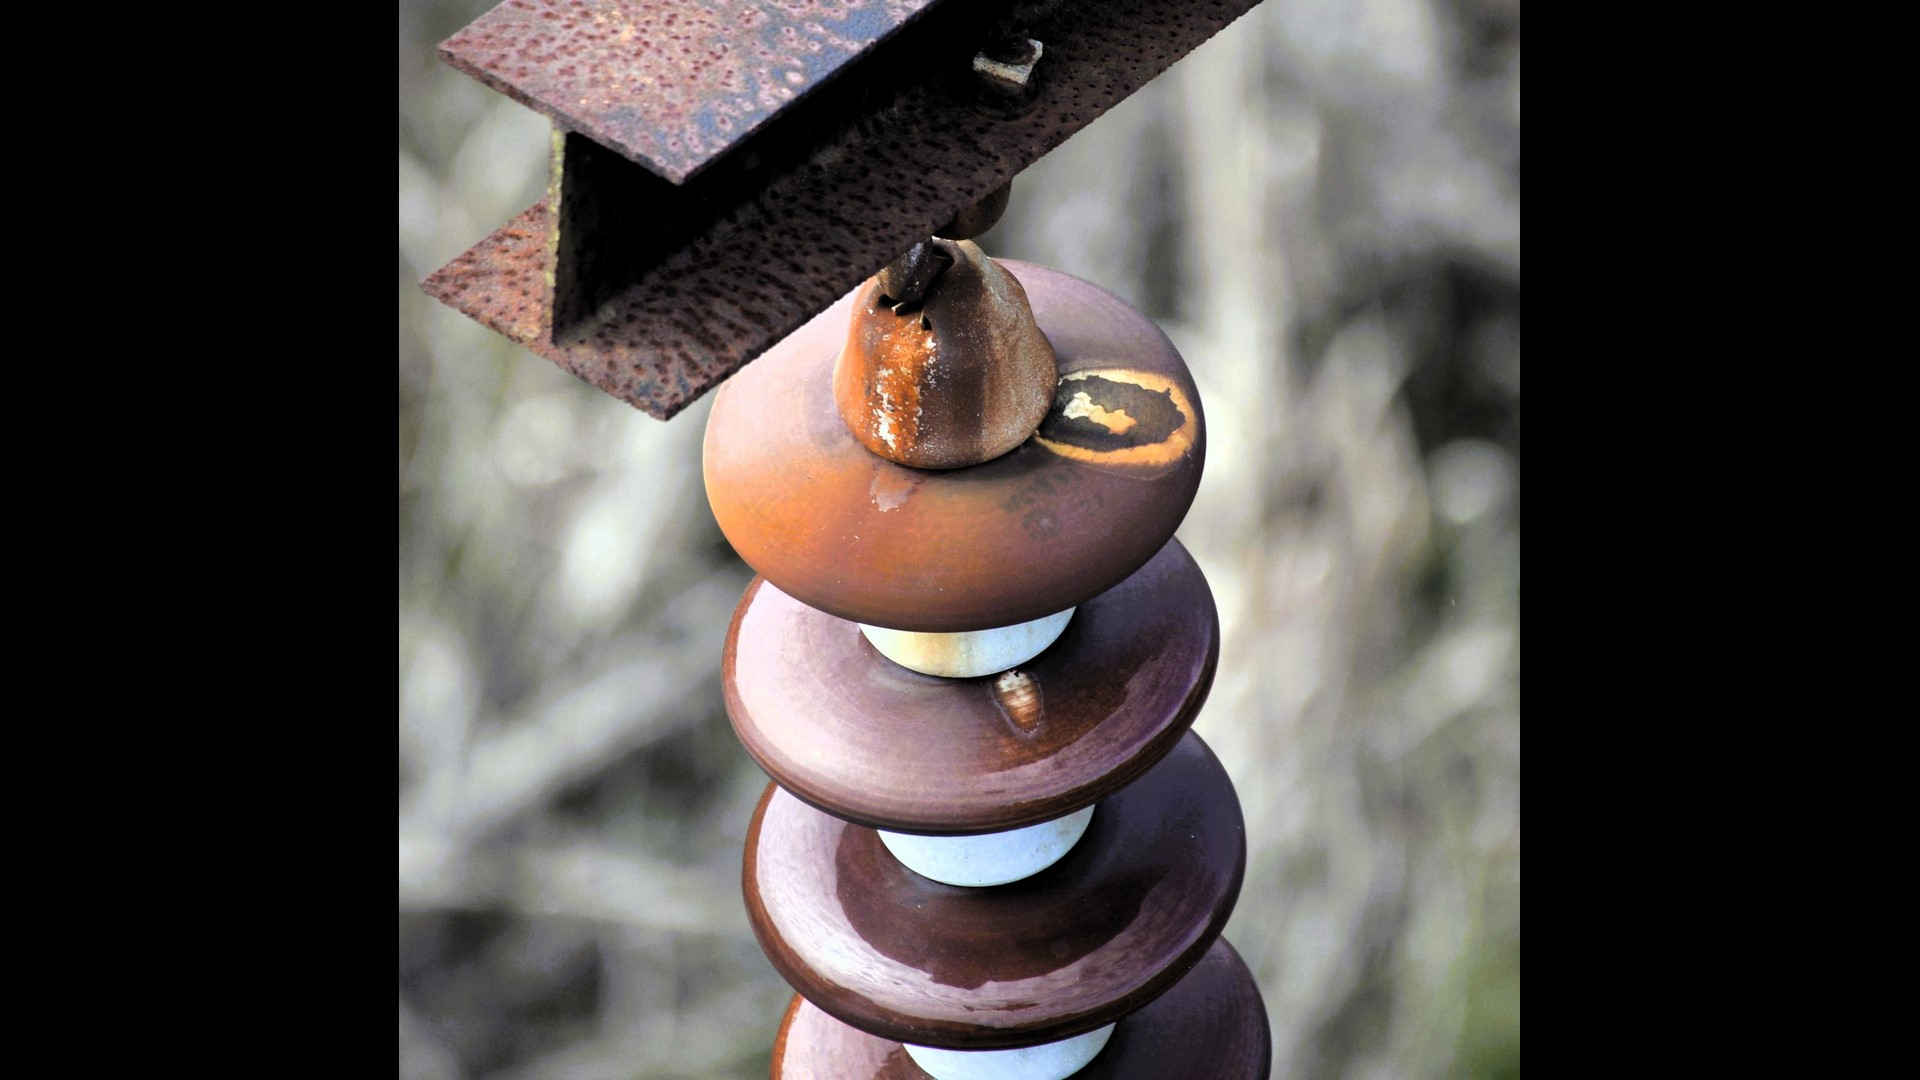Insulator flashover: (700, 247, 1215, 636)
